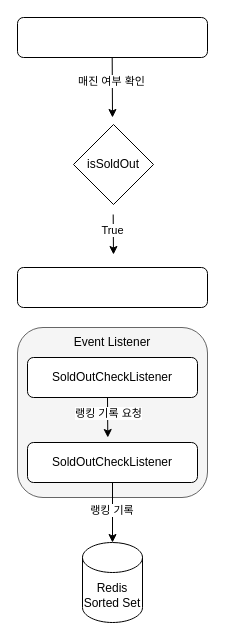
The diagram is 225 pixels wide and 640 high, and some of its shapes have lost their labels. The centre of each missing label's shape, as x and y in pixels:
"ConcertSoldOutEvent 발행" goes at pixel 112 287.
"ConfirmPaymentUseCase" goes at pixel 112 37.
